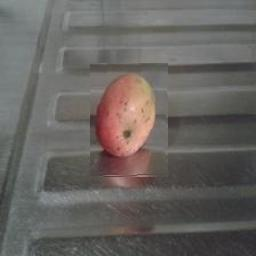Mango Semifresh: (90, 64, 168, 178)
